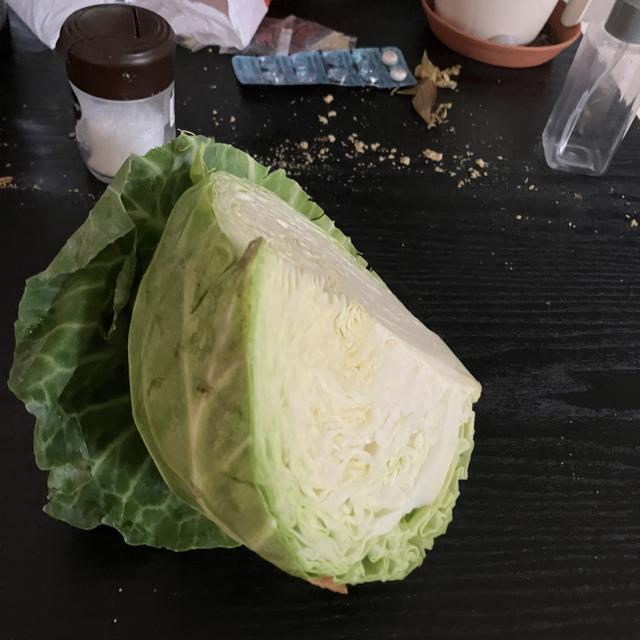haft-cabbage: (8, 127, 484, 597)
